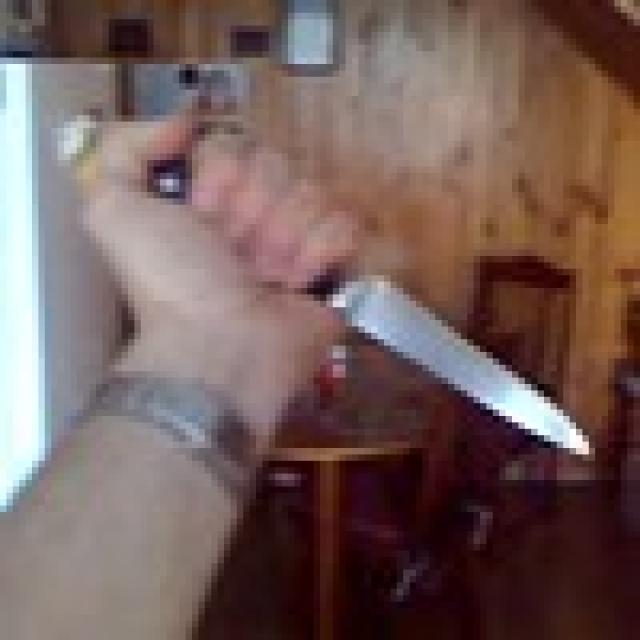Knife: (160, 153, 589, 454)
